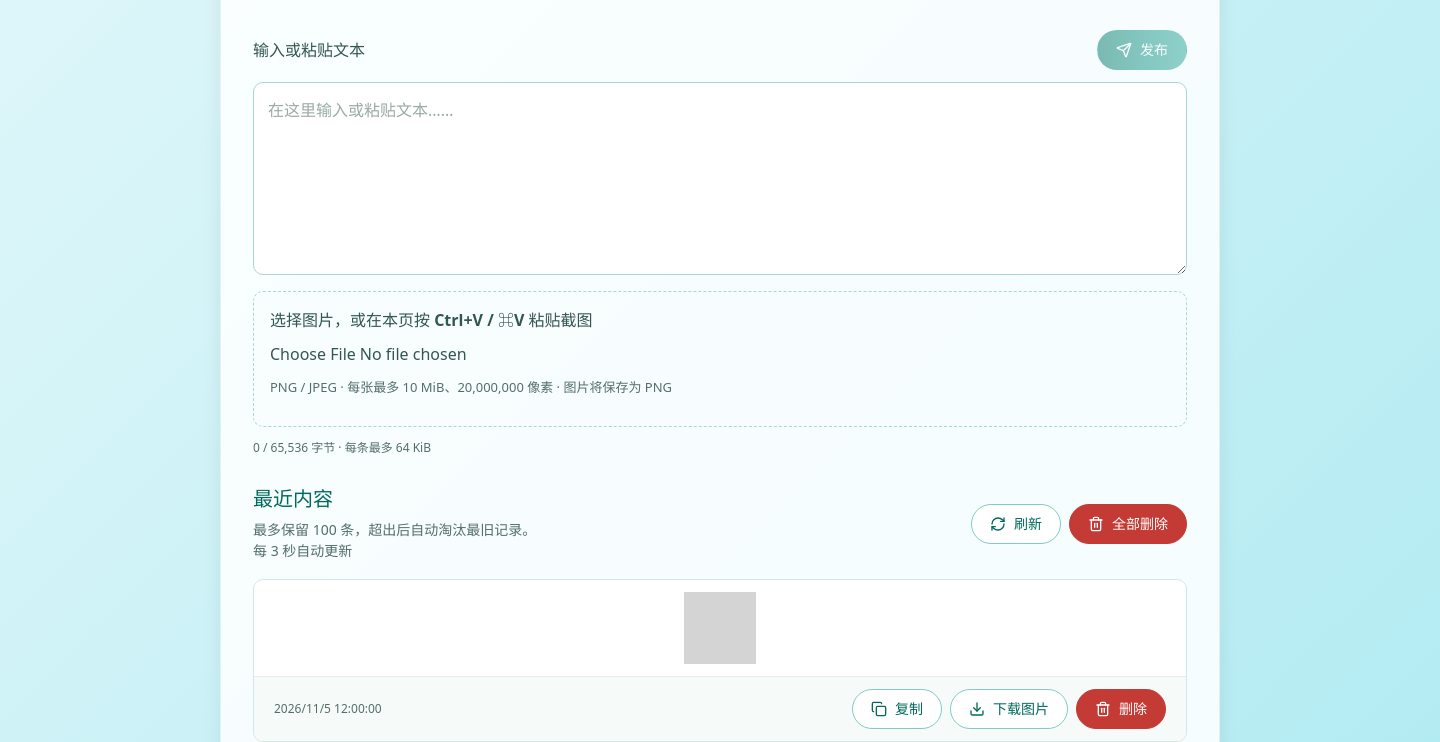
Scenario: offers image download and manual copy when clipboard permission is denied
(page scrolled)
Click the button with aria-label "复制记录 1" at coordinates (897, 709), box [852,689,942,729]
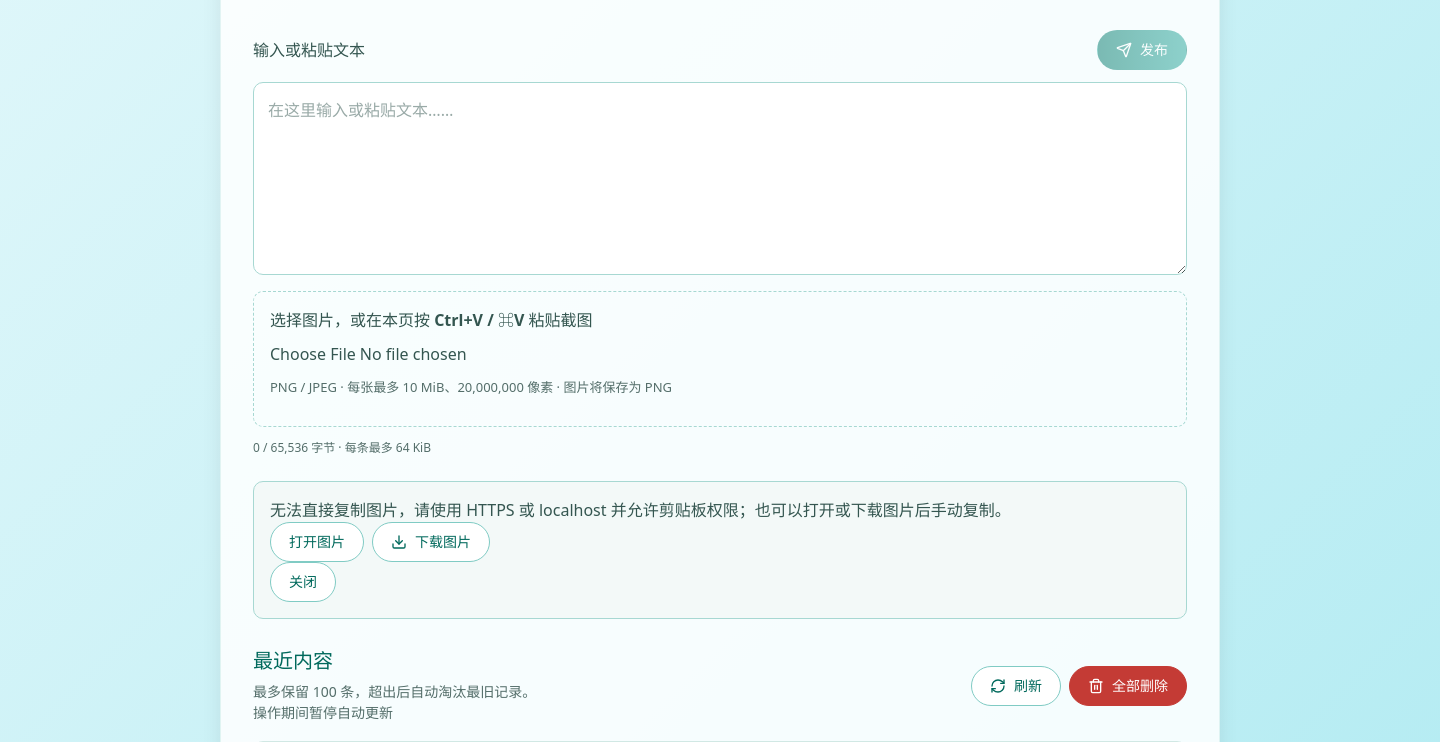
Now the text "无法直接复制图片，请使用 HTTPS 或 localhost 并允许剪贴板权限；也可以打开或下载图片后手动复制。" is shown, box [270,499,1011,521]
Now the button "打开图片" is shown, box [270,522,364,562]
